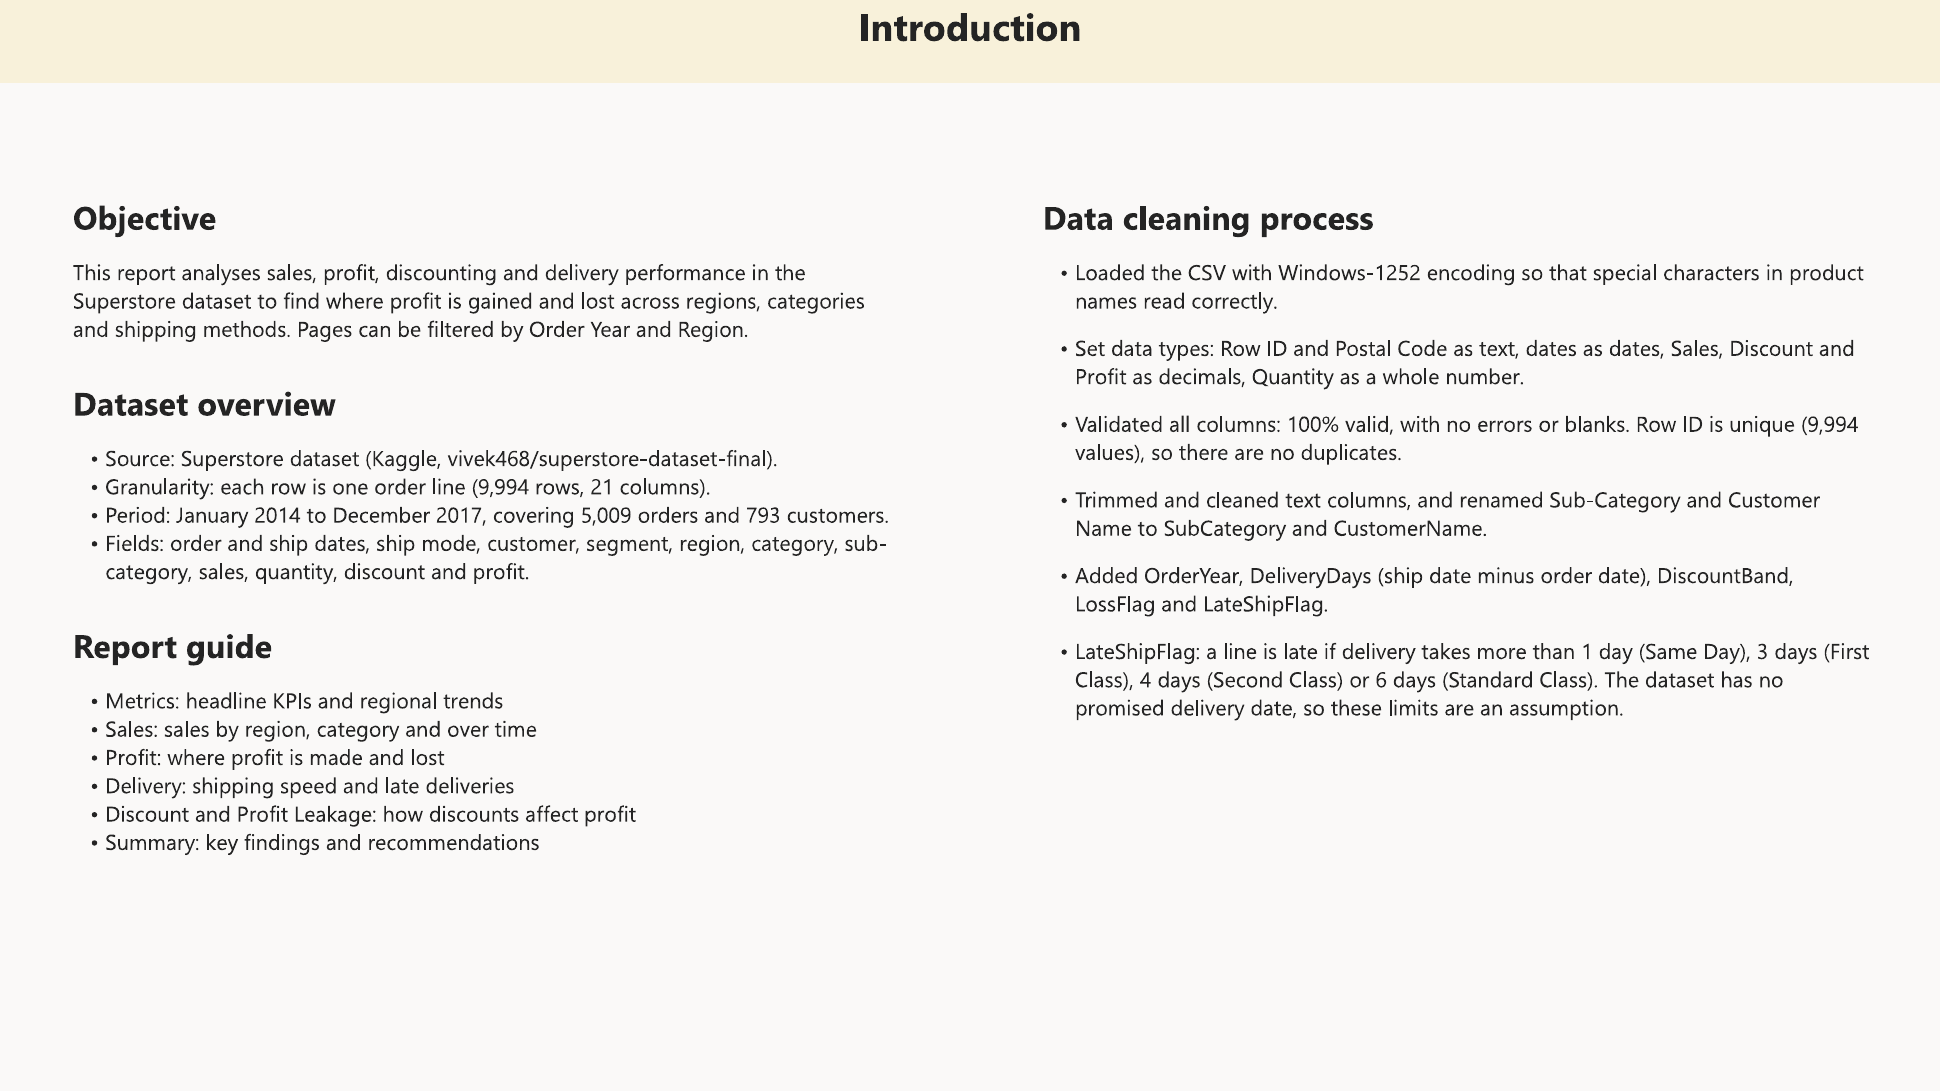

The dashboard page shown, as its layout file describes it:
{"tool":"powerbi","page":{"name":"Intro","canvas":[1920,1080],"ordinal":0},"visuals":[{"type":"textbox","box":[0,0,1920.4,82.3],"z":0},{"type":"textbox","box":[72,192,820,696],"z":1000},{"type":"textbox","box":[1032,192,820,576],"z":2000}]}

Visuals, with their boxes in screenshot pixels (x1, y1, x2, y2), scaled from the page's 1920x1080 canvas onto the 1940x1091 screenshot:
textbox: [0,0,1939,83]
textbox: [73,194,901,897]
textbox: [1043,194,1871,776]
